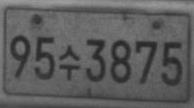3: (85, 38, 106, 82)
5: (160, 40, 184, 86), (33, 36, 55, 80)
7: (135, 40, 157, 84)
8: (109, 39, 132, 83)
9: (8, 34, 31, 78)
수: (58, 44, 81, 81)
